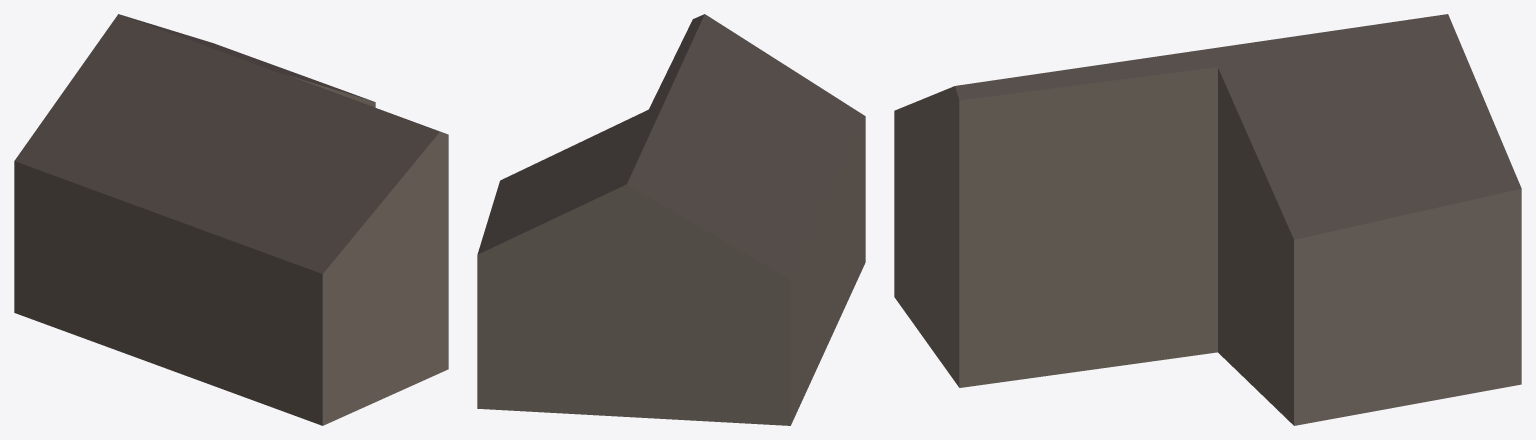
3 views of the same model, side by side, from view 1: azimuth 30°, elevation 25°; view 2: azimuth 150°, elevation 25°; view 3: azimuth 270°, elevation 25° (orthographic). The views are drawn at different scales.
Parts seen in each view (by area): view 1: HP-w1198645071; view 2: HP-w1198645071; view 3: HP-w1198645071.
Boxes of the visible parts, x1=… form: HP-w1198645071: x1=14, y1=14, x2=448, y2=425; HP-w1198645071: x1=477, y1=14, x2=865, y2=425; HP-w1198645071: x1=894, y1=14, x2=1521, y2=425.
Size of the model in its own units: 13.7 by 9.54 by 18.34.
